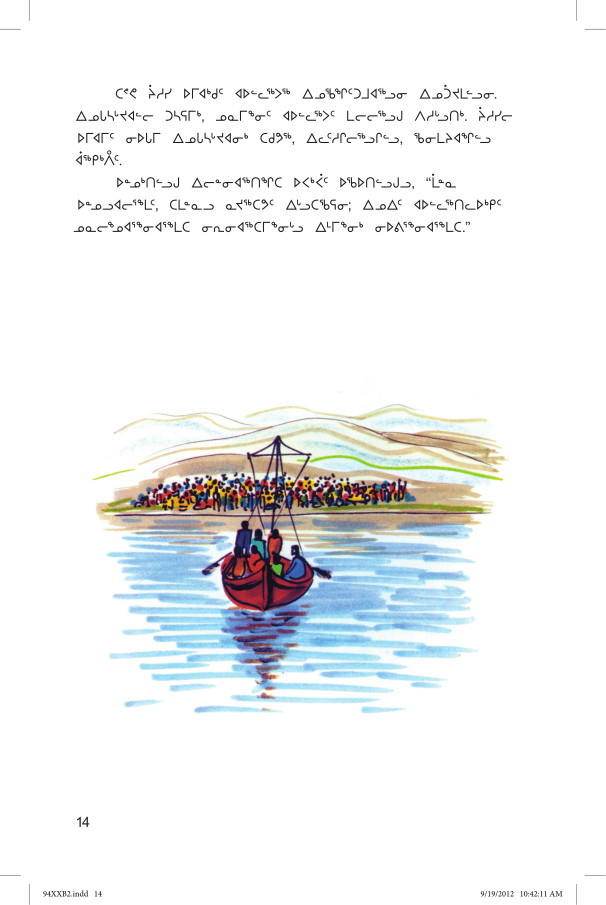inuktitut: (65, 77, 515, 239)
